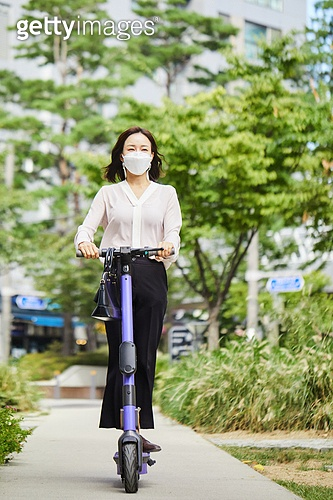scooter: (77, 246, 175, 497)
